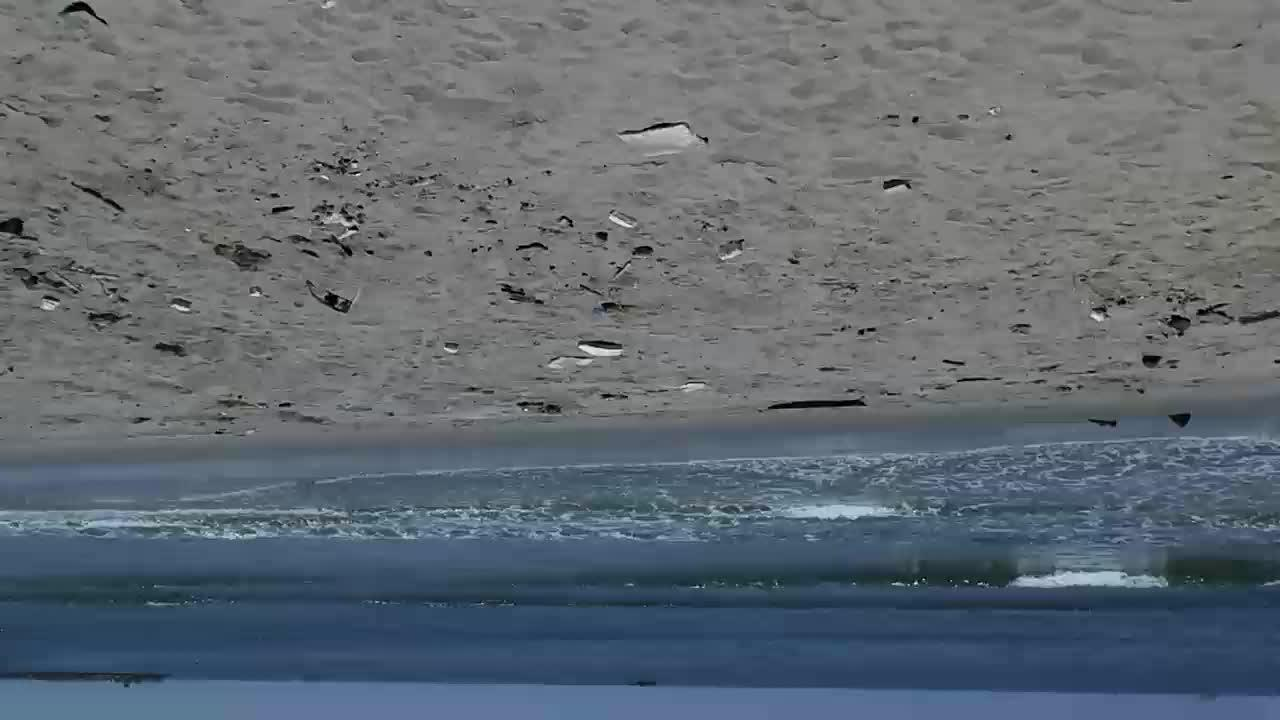obj: (608, 114, 716, 162), (61, 7, 116, 54), (762, 396, 867, 417), (62, 179, 122, 212), (215, 242, 269, 272), (305, 283, 354, 311), (874, 177, 916, 197), (542, 355, 592, 370), (574, 341, 622, 353), (716, 240, 744, 260), (609, 208, 636, 228), (1197, 310, 1230, 326), (1, 218, 22, 242), (1088, 308, 1110, 323), (12, 266, 32, 280), (171, 300, 191, 312), (680, 383, 700, 395), (247, 284, 264, 298), (40, 298, 56, 312)
sand/background: (1, 385, 1279, 719)
